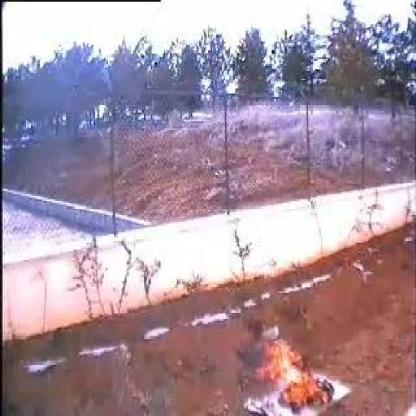-: (243, 339, 264, 366)
foggia-v2-map80-epoch100 - v1 4323: (264, 343, 330, 409)
